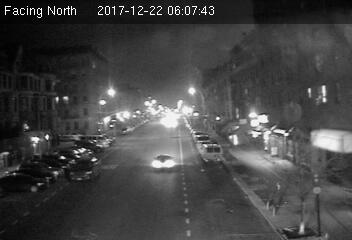car: (66, 155, 104, 181), (151, 154, 176, 173)
truck: (202, 144, 222, 163)
